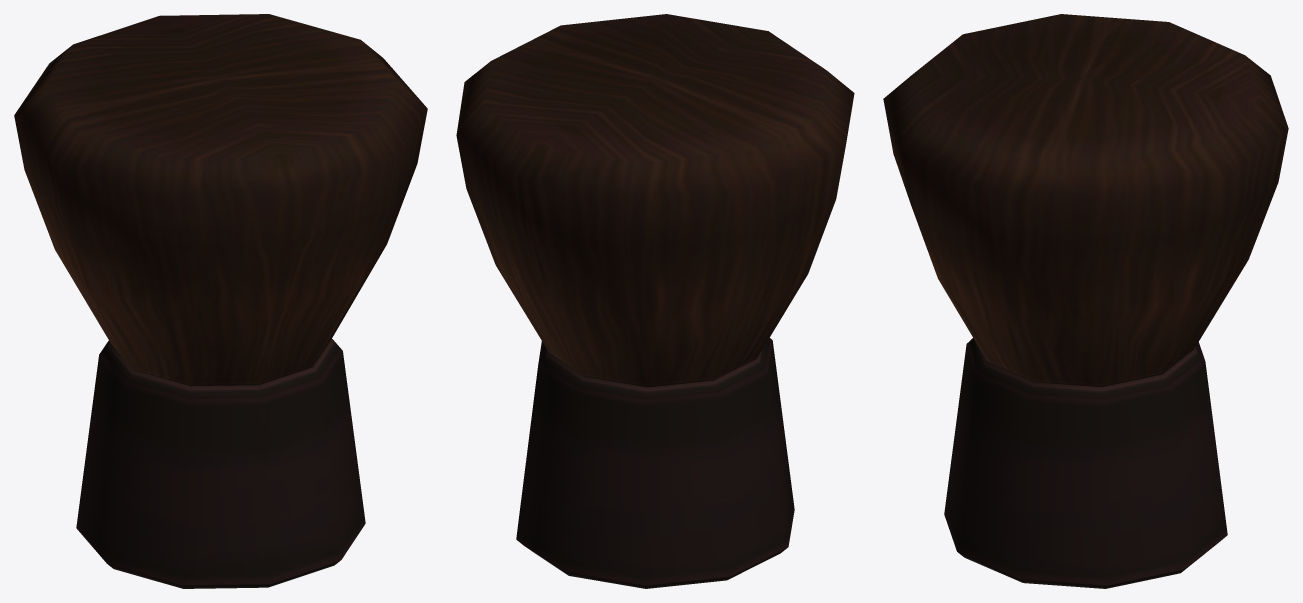
Rendered from Small Makeup Brush.fbx.
3 views of the same model, side by side, from view 1: azimuth 30°, elevation 25°; view 2: azimuth 150°, elevation 25°; view 3: azimuth 270°, elevation 25° (orthographic).
Visible parts, largest first — view 1: Small_Makeup_Brush; view 2: Small_Makeup_Brush; view 3: Small_Makeup_Brush.
Boxes of the visible parts, bbox=[...] form: Small_Makeup_Brush: bbox=[14, 14, 427, 588]; Small_Makeup_Brush: bbox=[456, 14, 854, 588]; Small_Makeup_Brush: bbox=[883, 14, 1288, 588].
Size of the model in its own units: 2.65 by 3.28 by 2.64.
